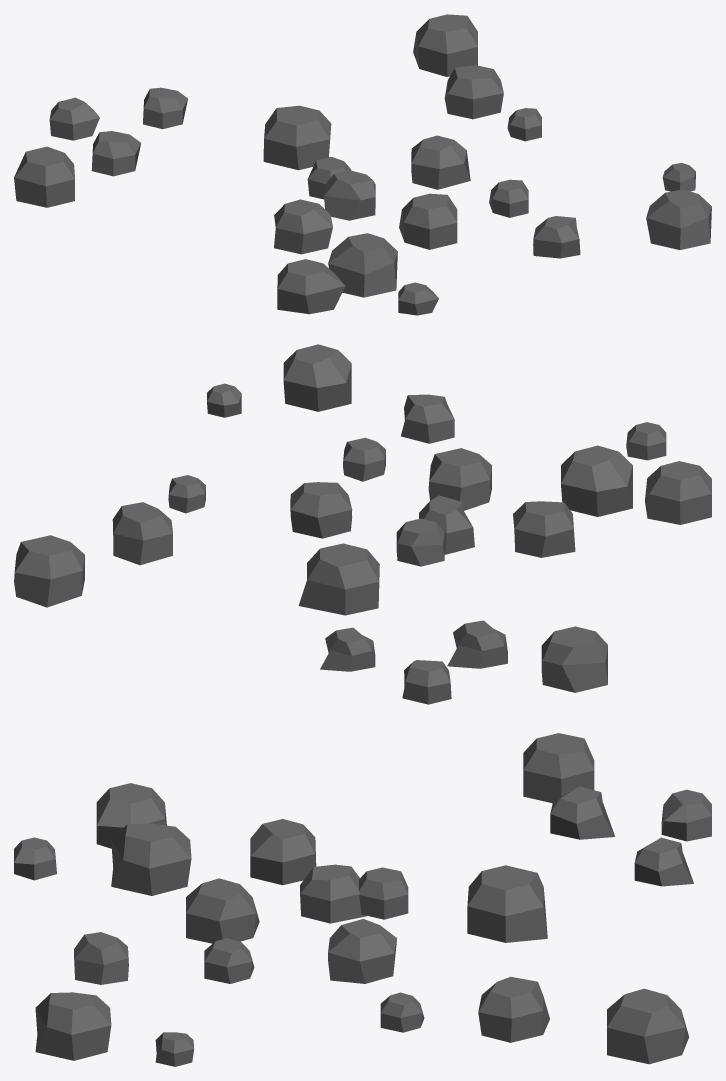
Rendered from Камні.fbx.
3 renders of one model, top to bottom at view 1: azimuth 30°, elevation 25°; view 2: azimuth 150°, elevation 25°; view 3: azimuth 270°, elevation 25°, orthographic. The views are drawn at different scales.
Parts seen in each view (by area): view 1: Цилиндр.031; view 2: Цилиндр.031; view 3: Цилиндр.031.
Part boxes in pixels (box(x1,y1,x2,y2)): Цилиндр.031: box(14, 14, 711, 315); Цилиндр.031: box(14, 344, 711, 704); Цилиндр.031: box(14, 733, 711, 1066).
Size of the model in its own units: 15972 by 1154 by 15377.
